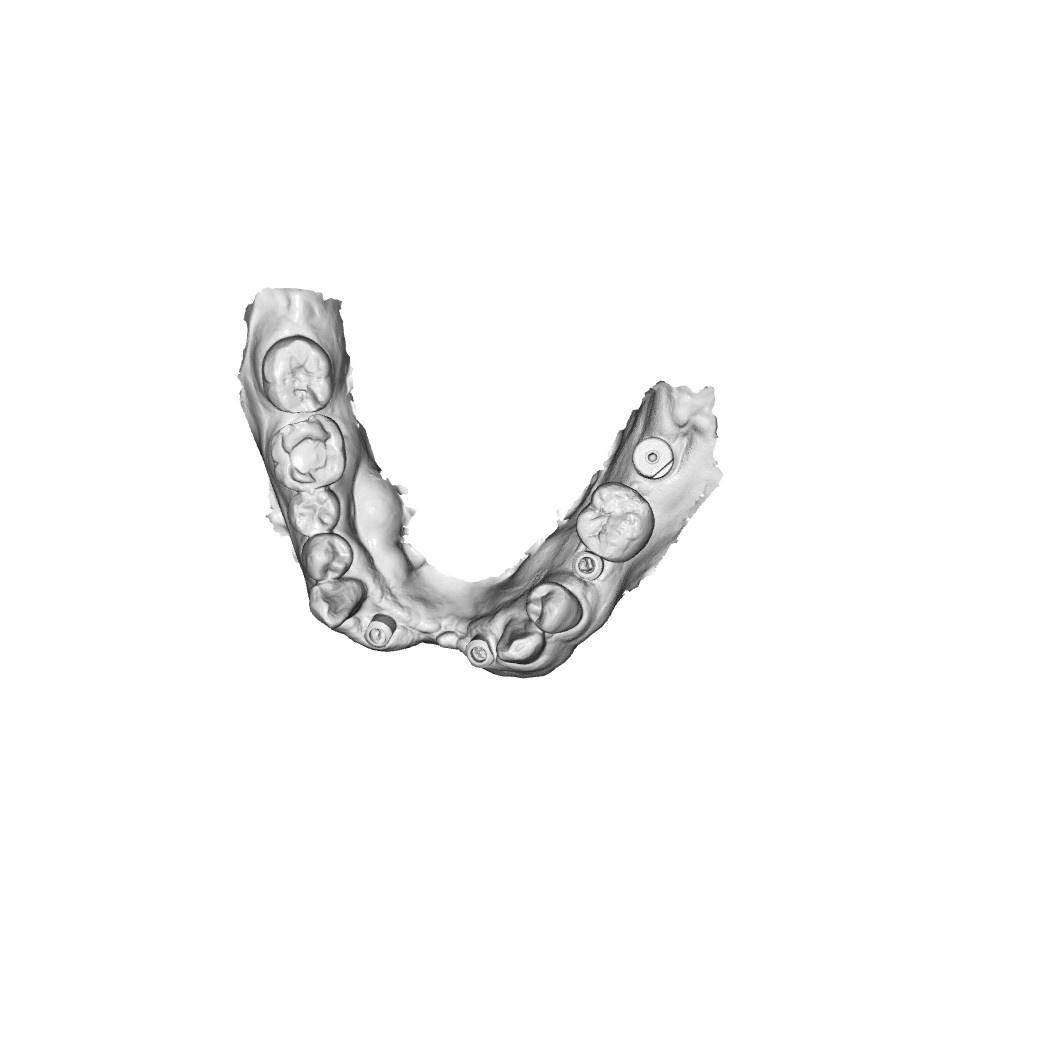implant: (632, 432, 677, 486), (365, 614, 399, 651), (573, 547, 604, 584), (463, 633, 492, 670)
incisor: (307, 575, 365, 625), (496, 616, 543, 658)
molar: (266, 333, 336, 415), (579, 485, 649, 561), (274, 418, 343, 490), (301, 530, 355, 587), (292, 490, 336, 531)
premolar: (524, 583, 580, 634)
